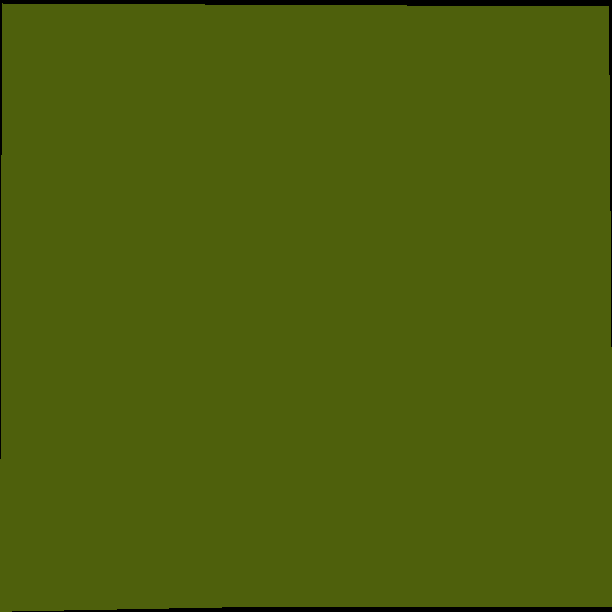Train: (0, 3, 612, 612)
